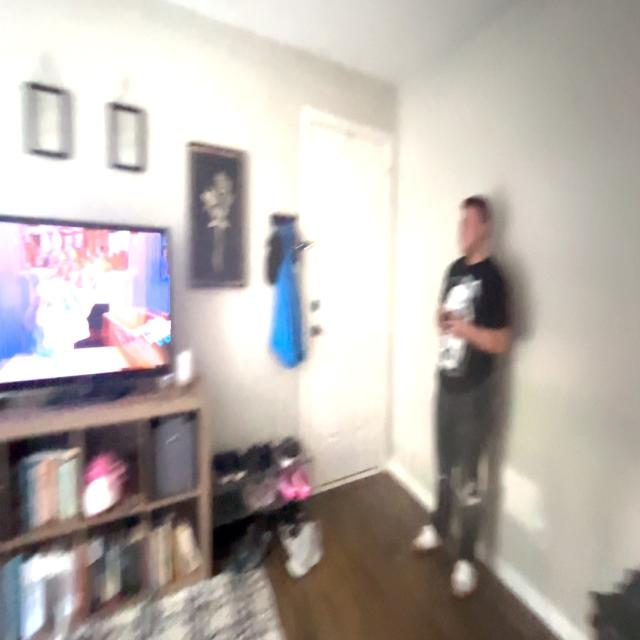drone: (280, 229, 324, 267)
